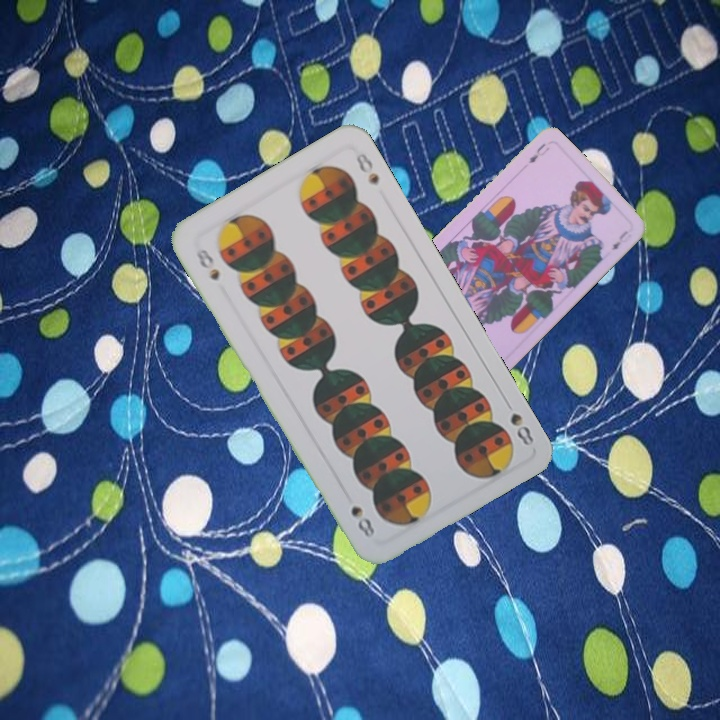EU: (524, 139, 552, 166)
S8: (500, 394, 537, 449), (192, 244, 222, 283)
